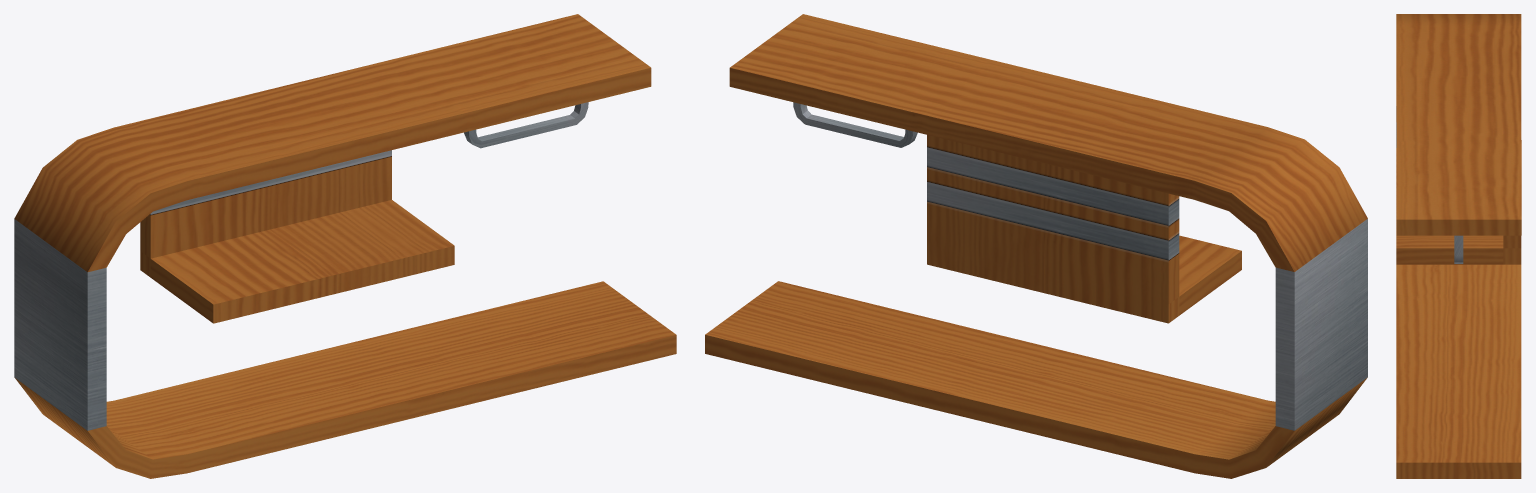
The model's file is ModShelf.fbx.
3 views of the same model, side by side, from view 1: azimuth 30°, elevation 25°; view 2: azimuth 150°, elevation 25°; view 3: azimuth 270°, elevation 25° (orthographic). The views are drawn at different scales.
Visible parts, largest first — view 1: ModShelf1; view 2: ModShelf1; view 3: ModShelf1.
Part boxes in pixels (x1,y1,x2,y2): ModShelf1: (14,14,676,478); ModShelf1: (705,14,1367,478); ModShelf1: (1396,14,1521,478).
Bounding box in the file's own units: 3.7 × 1.76 × 0.8011.
1 material, 1 textured.
